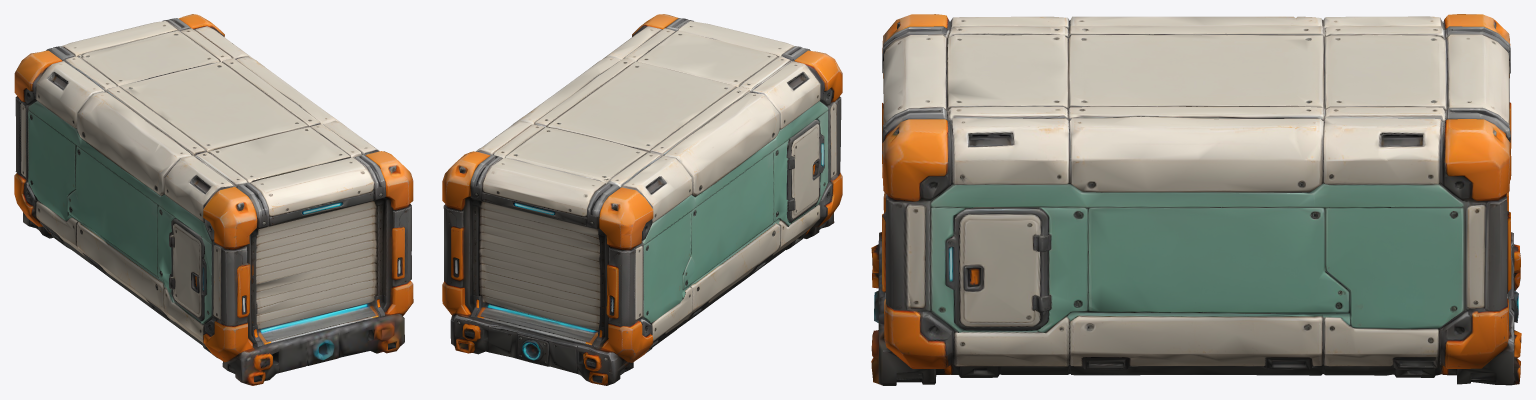
The model's file is futuristic cargo container 3d model.glb.
3 views of the same model, side by side, from view 1: azimuth 30°, elevation 25°; view 2: azimuth 150°, elevation 25°; view 3: azimuth 270°, elevation 25° (orthographic). The views are drawn at different scales.
Visible parts, largest first — view 1: tripo_node_f69372a3-8816-4a51-9baf-cf9f14d487e3; view 2: tripo_node_f69372a3-8816-4a51-9baf-cf9f14d487e3; view 3: tripo_node_f69372a3-8816-4a51-9baf-cf9f14d487e3.
Boxes of the visible parts, left/top/right/bottom form: tripo_node_f69372a3-8816-4a51-9baf-cf9f14d487e3: left=14, top=14, right=413, bottom=385; tripo_node_f69372a3-8816-4a51-9baf-cf9f14d487e3: left=442, top=14, right=842, bottom=385; tripo_node_f69372a3-8816-4a51-9baf-cf9f14d487e3: left=871, top=14, right=1521, bottom=385.
Size of the model in its own units: 0.5047 by 0.4462 by 1.
Materials: 1 (1 with a texture image).
